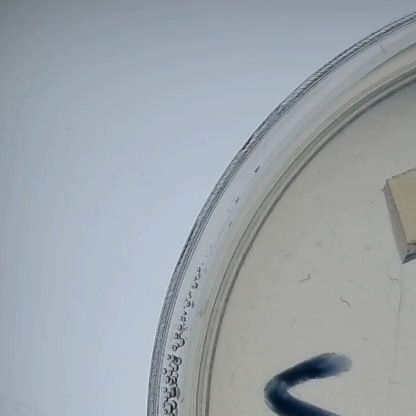worm: (385, 273, 412, 294), (331, 294, 357, 312), (294, 273, 320, 289), (382, 374, 399, 390), (358, 332, 372, 346)
